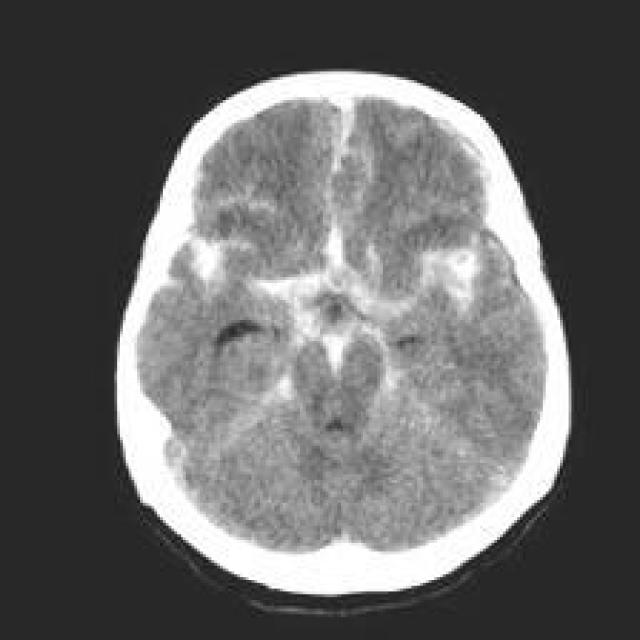no_tumor: (107, 66, 582, 612)
